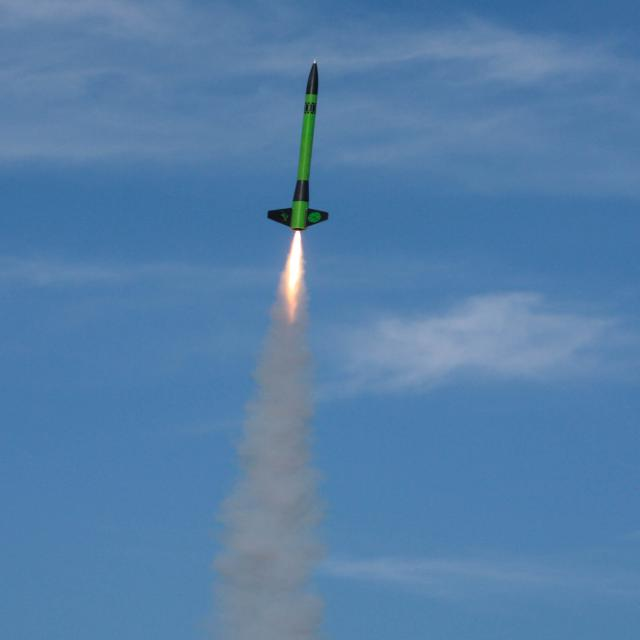Rocket: (268, 58, 330, 232)
